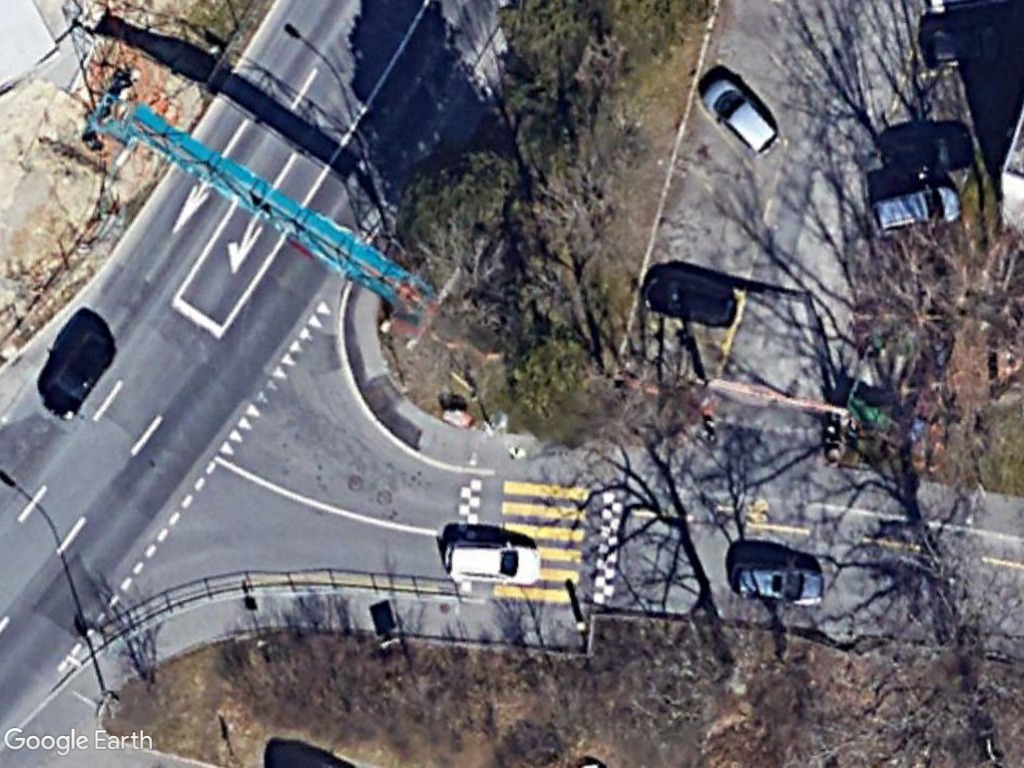car: (701, 77, 781, 157), (724, 557, 827, 607), (866, 185, 963, 238), (441, 542, 546, 585)
